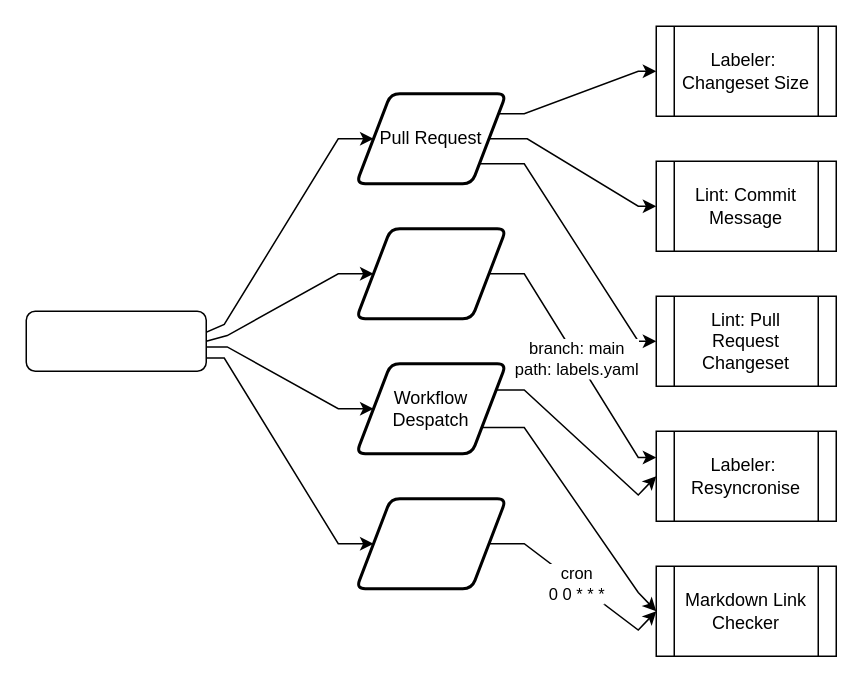
This 863x683 diagram has some shape labels left out. The shapes that lost their labels are listed below. From the top down, each one's centre as x and y in pixels, then its label:
At point (430, 273): "Push".
At point (115, 340): "Github Event".
At point (430, 543): "schedule".
